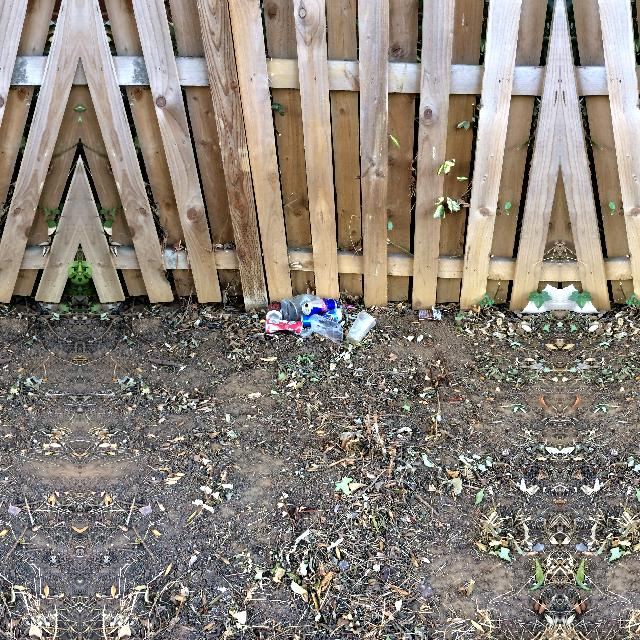Metal: (262, 318, 306, 337), (300, 297, 340, 315), (264, 299, 284, 325)
Paper: (511, 280, 559, 320), (561, 280, 609, 320), (415, 304, 443, 322)
Plastic: (280, 292, 326, 322), (307, 313, 343, 347), (345, 311, 377, 347), (335, 303, 357, 309)
